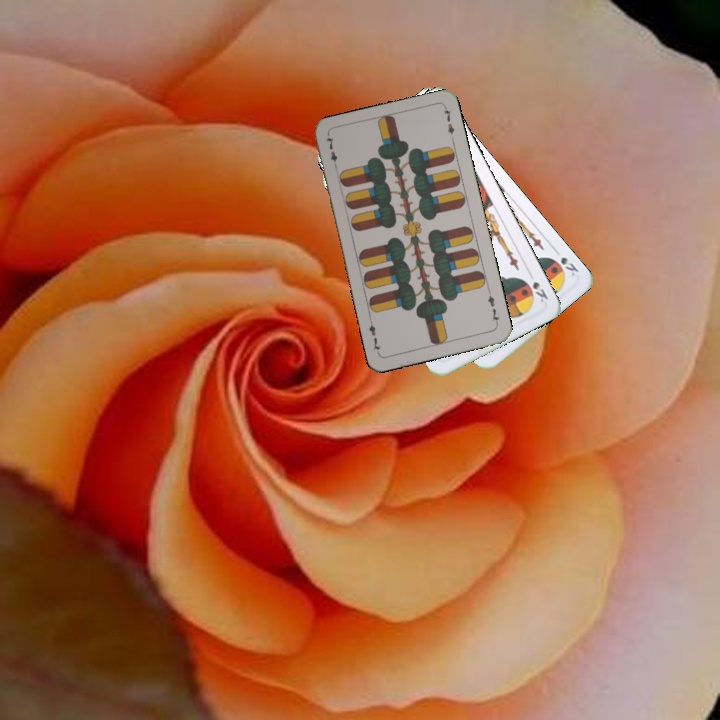E7: (483, 287, 502, 327), (322, 132, 340, 172)
SK: (524, 268, 551, 305), (547, 252, 581, 279)
